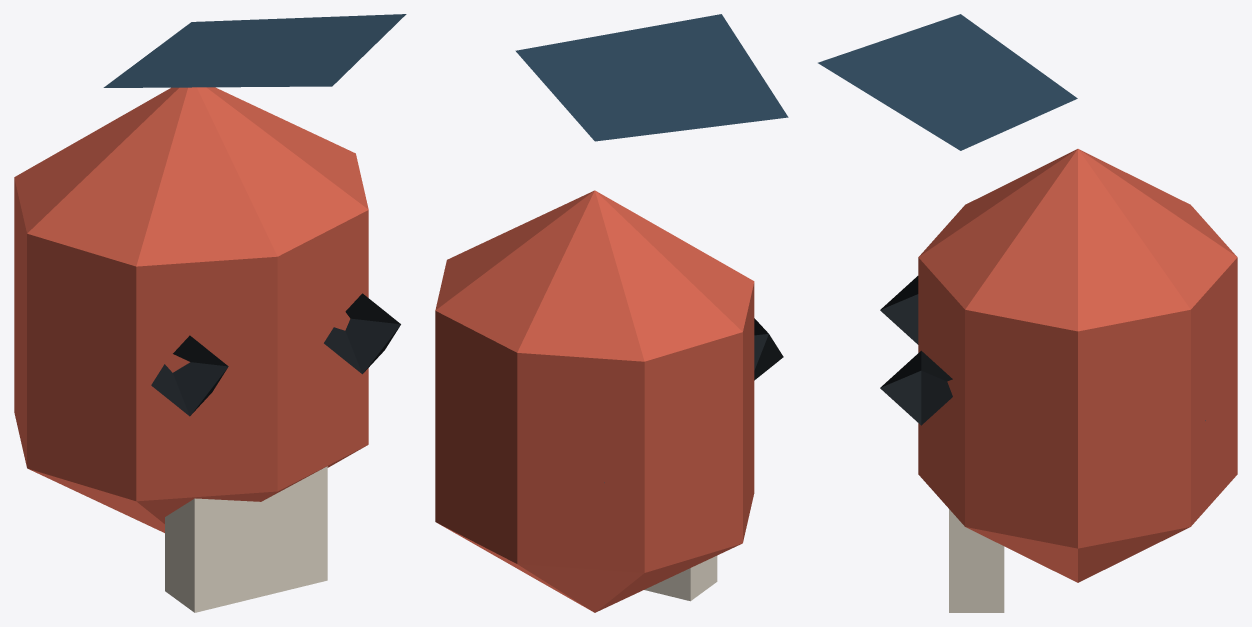
Rendered from fish_snapper.glb.
3 views of the same model, side by side, from view 1: azimuth 30°, elevation 25°; view 2: azimuth 150°, elevation 25°; view 3: azimuth 270°, elevation 25° (orthographic). The views are drawn at different scales.
Parts seen in each view (by area): view 1: fish_snapper; view 2: fish_snapper; view 3: fish_snapper.
Boxes of the visible parts, x1=… form: fish_snapper: x1=14, y1=14, x2=406, y2=612; fish_snapper: x1=435, y1=14, x2=788, y2=612; fish_snapper: x1=818, y1=14, x2=1237, y2=612.
Bounding box in the file's own units: 0.6119 × 1 × 0.7322.
